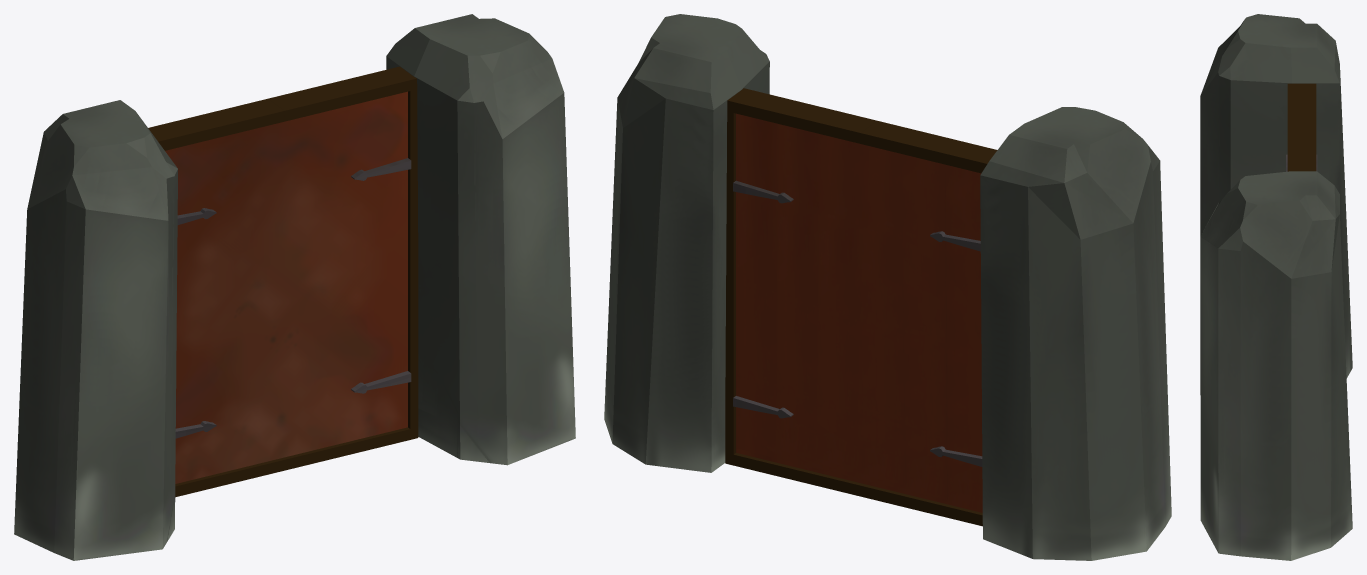
File: NoatunGate.glb
3 views of the same model, side by side, from view 1: azimuth 30°, elevation 25°; view 2: azimuth 150°, elevation 25°; view 3: azimuth 270°, elevation 25° (orthographic). The views are drawn at different scales.
Parts seen in each view (by area): view 1: SidePillar, Low.001; view 2: SidePillar, Low.001; view 3: SidePillar, Low.001.
Boxes of the visible parts, x1=… form: SidePillar: x1=14, y1=14, x2=575, y2=560; Low.001: x1=148, y1=66, x2=418, y2=497; SidePillar: x1=604, y1=14, x2=1171, y2=560; Low.001: x1=725, y1=88, x2=997, y2=526; SidePillar: x1=1200, y1=14, x2=1352, y2=560; Low.001: x1=1286, y1=83, x2=1317, y2=171.
Size of the model in its own units: 269 by 189 by 77.03.
1 material, 1 textured.
